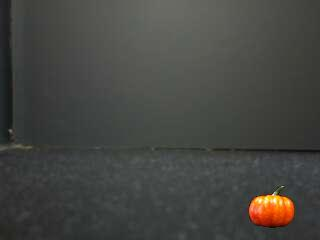Pumpkin: (250, 186, 296, 229)
